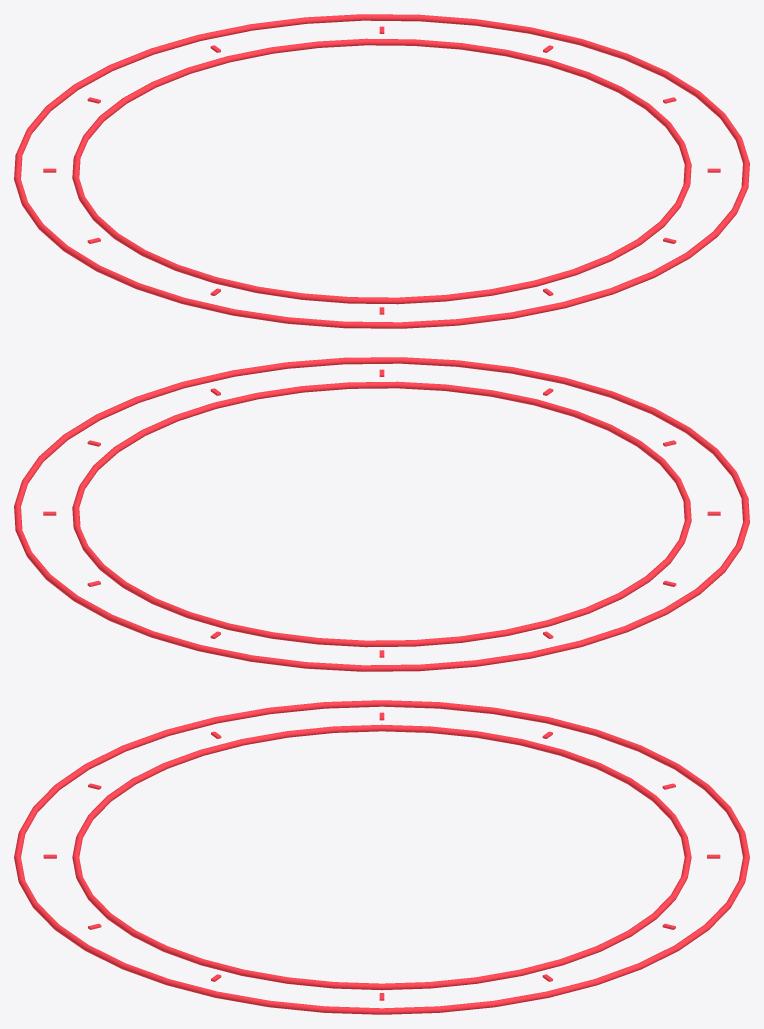
The model's file is boss_summon_portal.glb.
3 views of the same model, one above another, from view 1: azimuth 30°, elevation 25°; view 2: azimuth 150°, elevation 25°; view 3: azimuth 270°, elevation 25° (orthographic).
Visible parts, largest first — view 1: boss_summon_portal; view 2: boss_summon_portal; view 3: boss_summon_portal.
Part boxes in pixels (x1,y1,x2,y2): boss_summon_portal: (14,14,749,328); boss_summon_portal: (14,357,749,671); boss_summon_portal: (14,700,749,1014).
Size of the model in its own units: 2.52 by 0.024 by 2.52.
